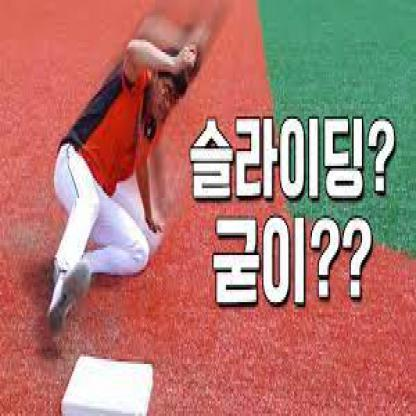Fall_Down: (46, 31, 201, 339)
